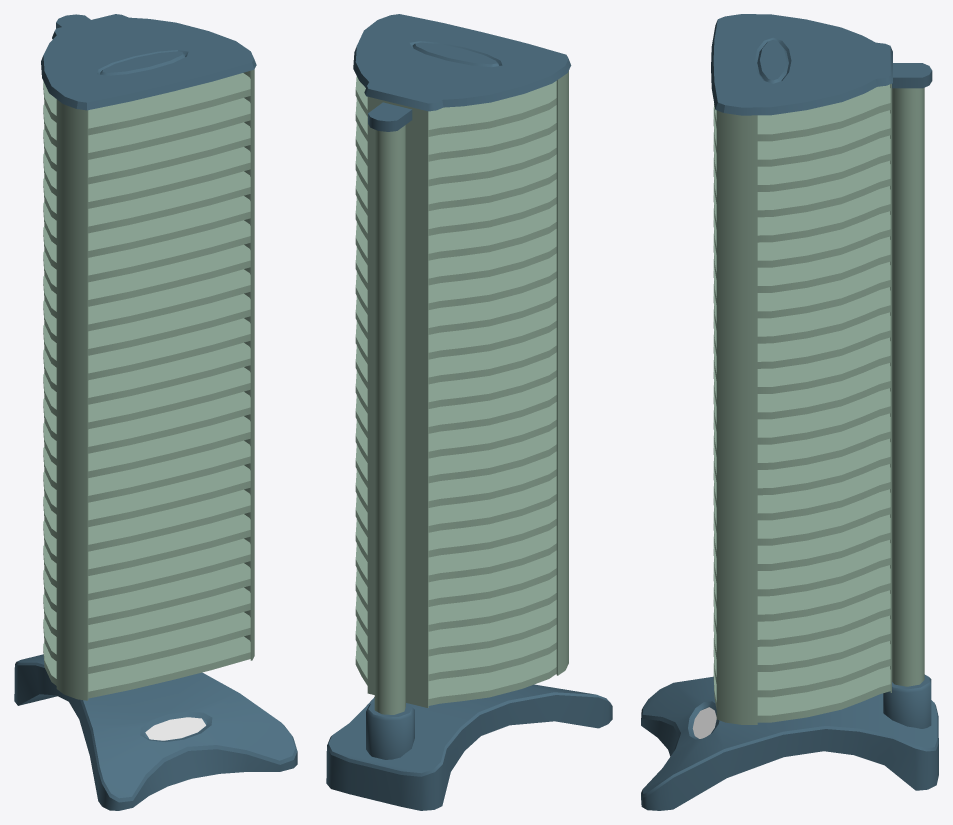
Rendered from AWL36.FBX.
3 renders of one model, left to right at view 1: azimuth 30°, elevation 25°; view 2: azimuth 150°, elevation 25°; view 3: azimuth 270°, elevation 25°, orthographic. The views are drawn at different scales.
Parts seen in each view (by area): view 1: AWL36; view 2: AWL36; view 3: AWL36.
Part boxes in pixels (left/top/right/bottom): AWL36: left=14, top=14, right=297, bottom=810; AWL36: left=326, top=14, right=612, bottom=810; AWL36: left=641, top=14, right=938, bottom=810.
Size of the model in its own units: 14.7 by 19.2 by 50.
